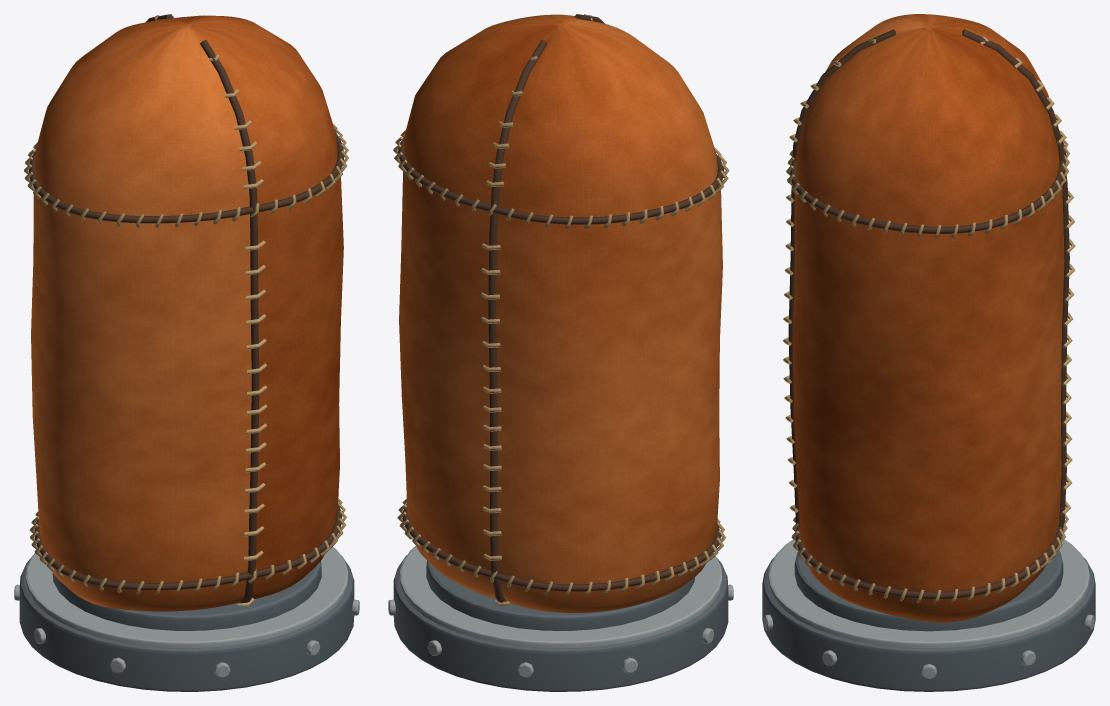
The model's file is wsc-prop-078-soft-practice-dummy.glb.
3 renders of one model, left to right at view 1: azimuth 30°, elevation 25°; view 2: azimuth 150°, elevation 25°; view 3: azimuth 270°, elevation 25°, orthographic.
Visible parts, largest first — view 1: wsc-prop-078-soft-practice-dummy; view 2: wsc-prop-078-soft-practice-dummy; view 3: wsc-prop-078-soft-practice-dummy.
Boxes of the visible parts, x1,y1,x2,y2 form: wsc-prop-078-soft-practice-dummy: (14,14,359,691); wsc-prop-078-soft-practice-dummy: (388,14,733,691); wsc-prop-078-soft-practice-dummy: (762,14,1095,691).
Size of the model in its own units: 0.9445 by 1.8 by 0.912.
Materials: 5 (1 with a texture image).
